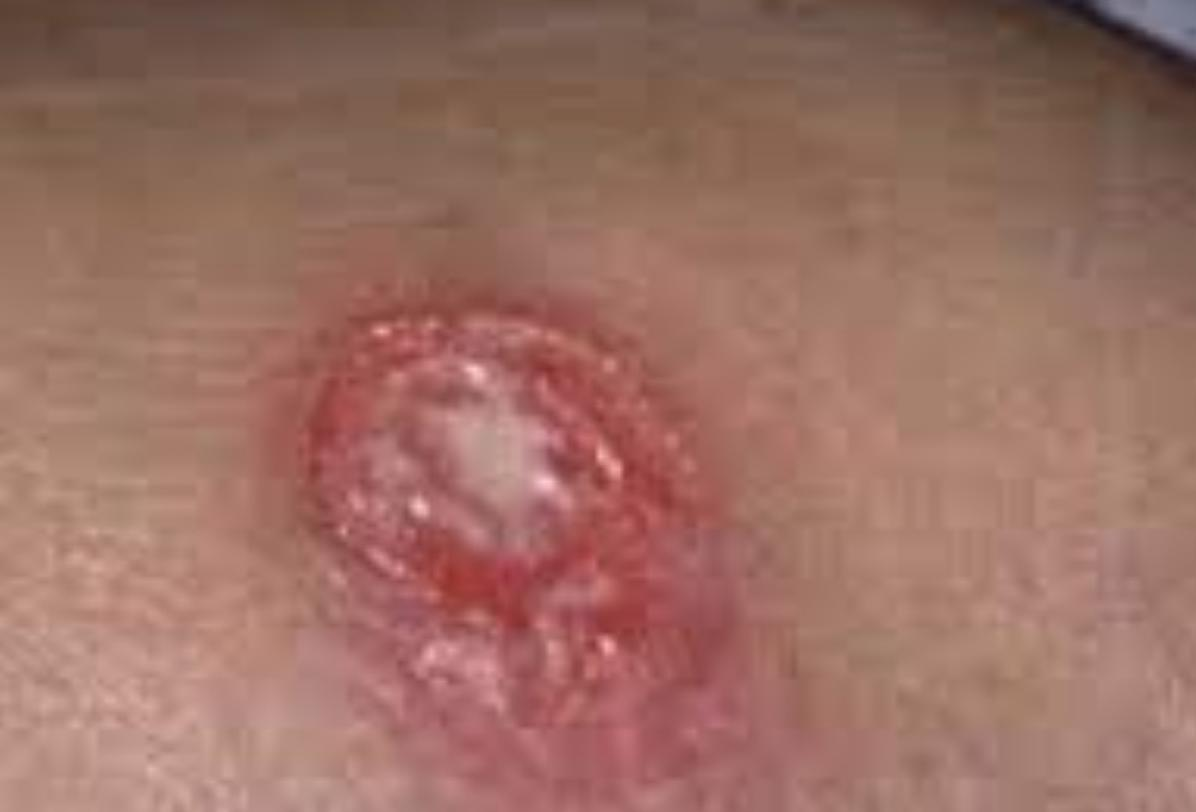Stage2: (298, 289, 777, 751)
